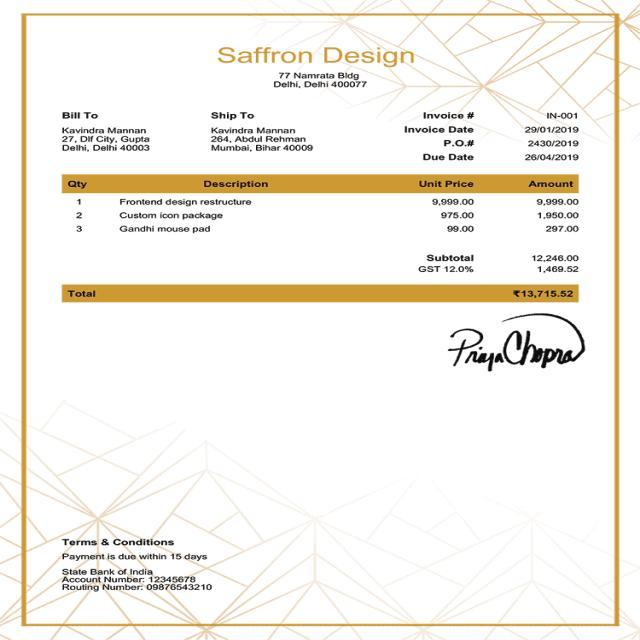ROI: (55, 170, 595, 236), (397, 102, 590, 163), (58, 284, 586, 304), (441, 308, 595, 372), (40, 94, 170, 159), (192, 97, 327, 156), (32, 527, 237, 563), (213, 38, 419, 68), (412, 246, 586, 279), (40, 568, 223, 595), (273, 71, 371, 93)
